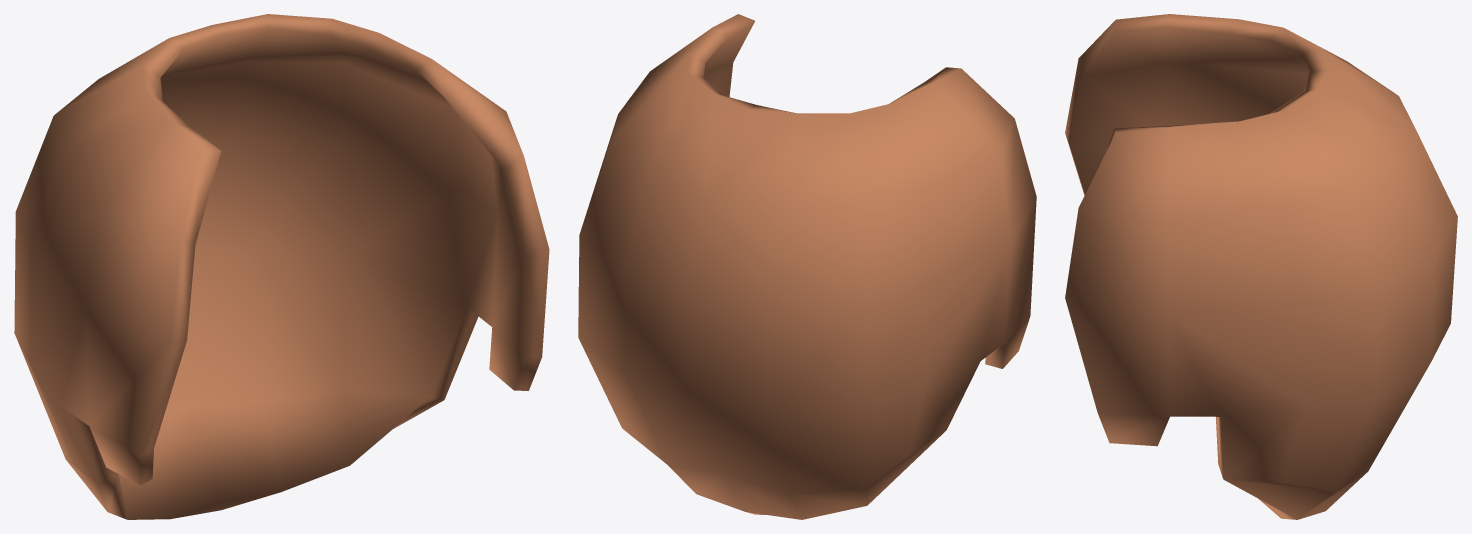
File: Balding2.fbx
3 views of the same model, side by side, from view 1: azimuth 30°, elevation 25°; view 2: azimuth 150°, elevation 25°; view 3: azimuth 270°, elevation 25° (orthographic). The views are drawn at different scales.
Visible parts, largest first — view 1: 03 Hair - Balding 2; view 2: 03 Hair - Balding 2; view 3: 03 Hair - Balding 2.
Boxes of the visible parts, x1,y1,x2,y2 form: 03 Hair - Balding 2: (14, 14, 549, 519); 03 Hair - Balding 2: (578, 14, 1036, 519); 03 Hair - Balding 2: (1065, 14, 1457, 519).
Size of the model in its own units: 0.2147 by 0.2284 by 0.1891.
